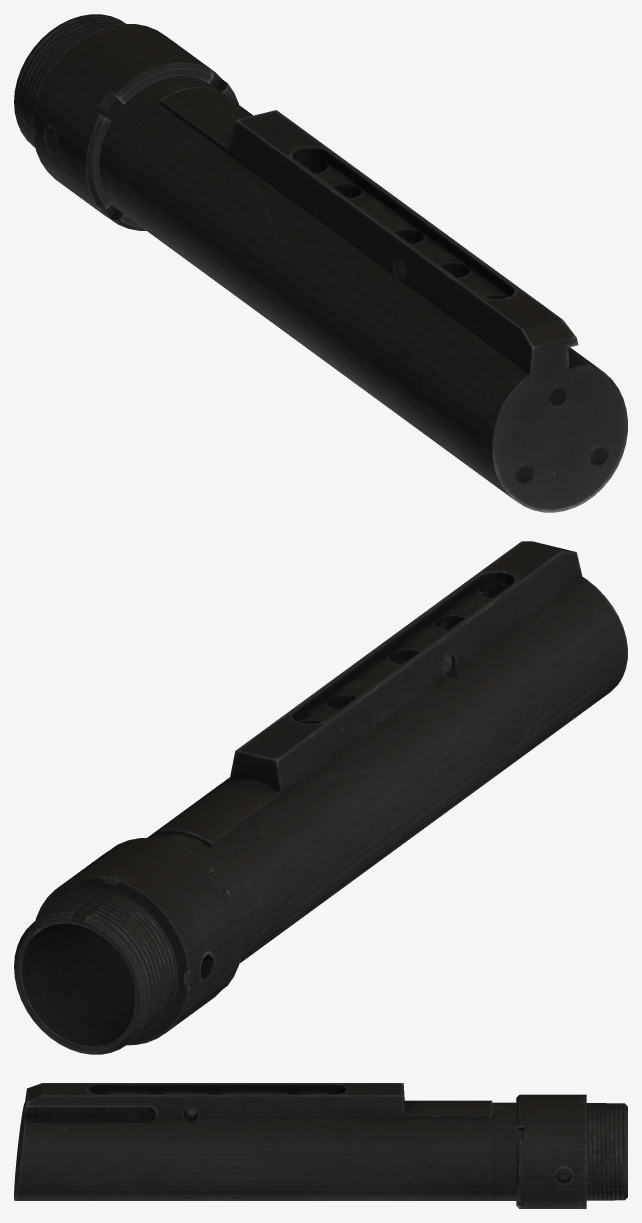
3 views of the same model, one above another, from view 1: azimuth 30°, elevation 25°; view 2: azimuth 150°, elevation 25°; view 3: azimuth 270°, elevation 25° (orthographic). The views are drawn at different scales.
Parts seen in each view (by area): view 1: TW_617153016c780c1e710c9a2f_PZ_Import; view 2: TW_617153016c780c1e710c9a2f_PZ_Import; view 3: TW_617153016c780c1e710c9a2f_PZ_Import.
Boxes of the visible parts, bbox=[...] form: TW_617153016c780c1e710c9a2f_PZ_Import: bbox=[14, 14, 627, 512]; TW_617153016c780c1e710c9a2f_PZ_Import: bbox=[14, 541, 627, 1054]; TW_617153016c780c1e710c9a2f_PZ_Import: bbox=[14, 1083, 627, 1208].
Bounding box in the file's own units: 0.0234 × 0.1256 × 0.0258.
Materials: 1 (1 with a texture image).
